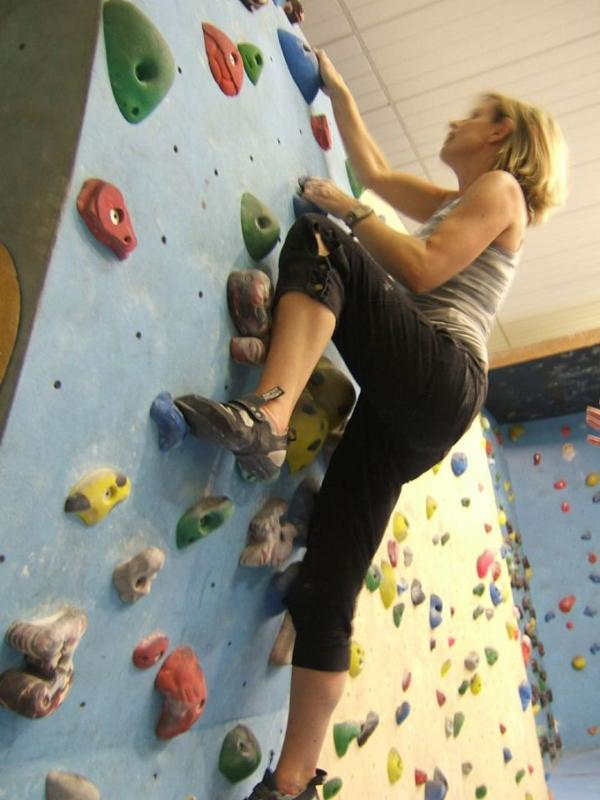person: (173, 46, 571, 800)
